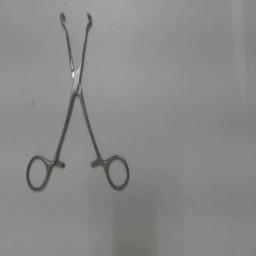Babcock Tissue Forceps: (24, 9, 136, 197)
